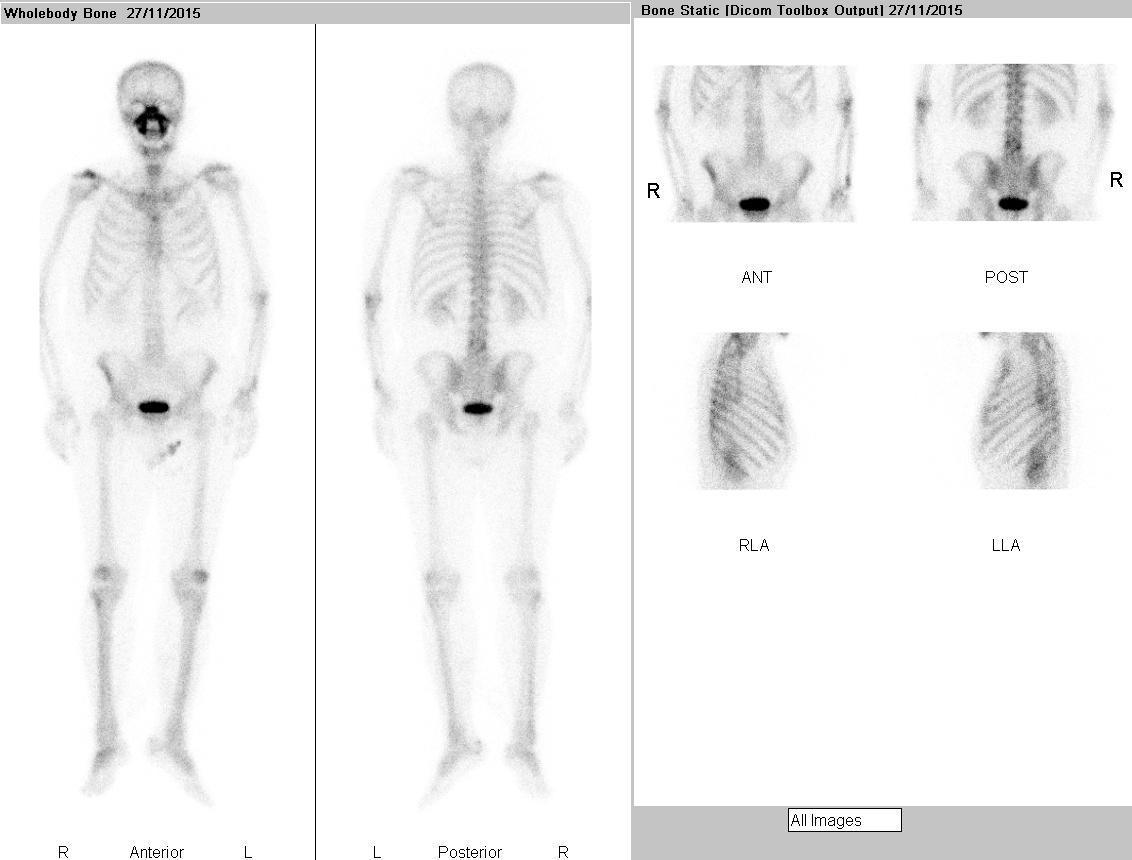person: (1, 26, 630, 860)
